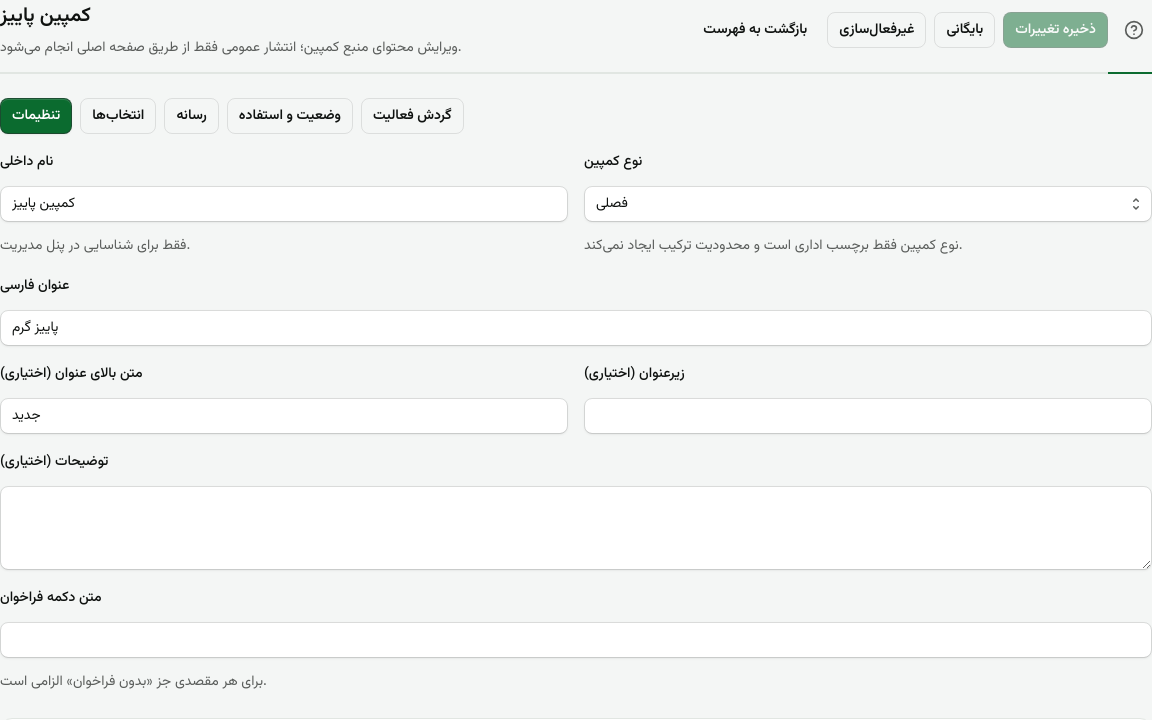
Test: MerchandisingCampaignEditorPage (SS-275) › shows a validation error and keeps the form editable
Clear the field labelled "عنوان فارسی": (576, 328) [0,310,1151,346]
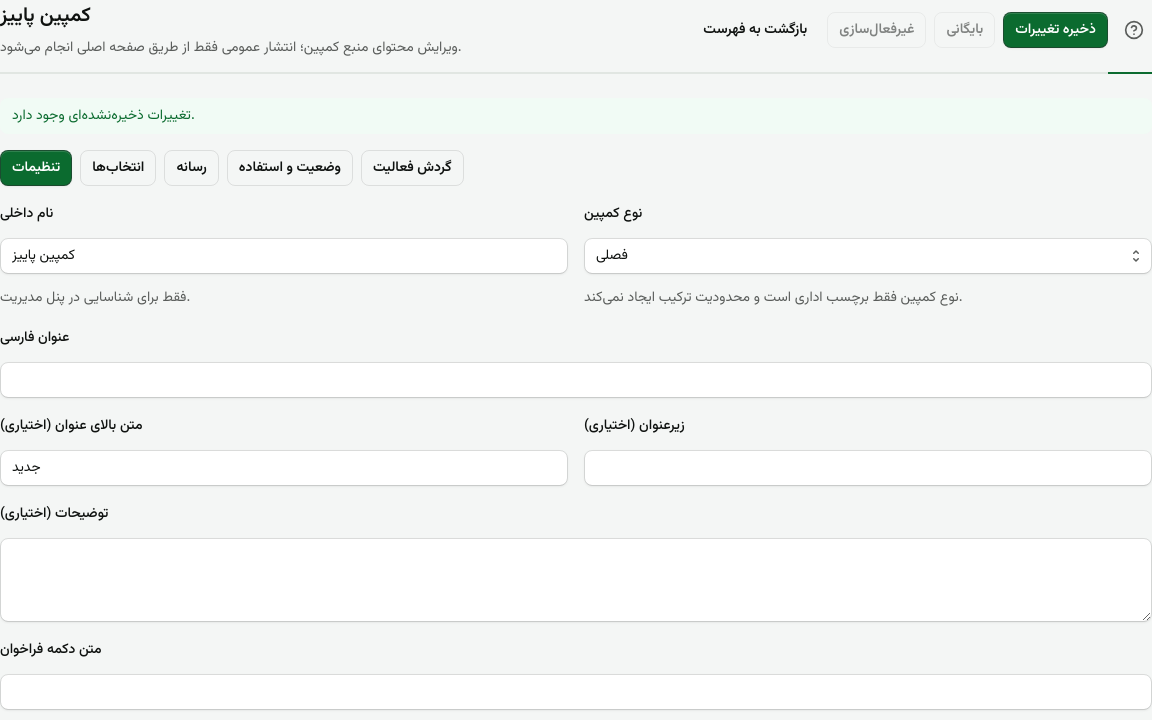
Click the button "ذخیره تغییرات": (1056, 30) [1003,12,1108,48]
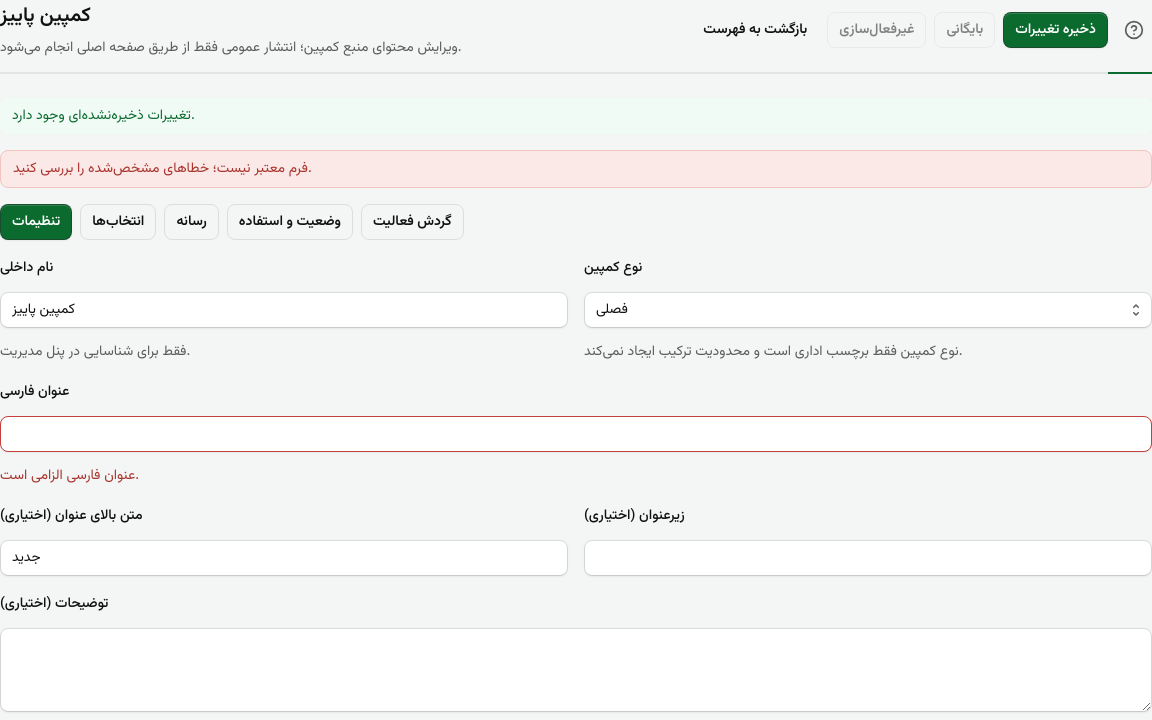
Expected: the field labelled "عنوان فارسی" is enabled, [0,416,1151,452]
Now the text "عنوان فارسی الزامی است." is shown, box [0,465,139,487]
